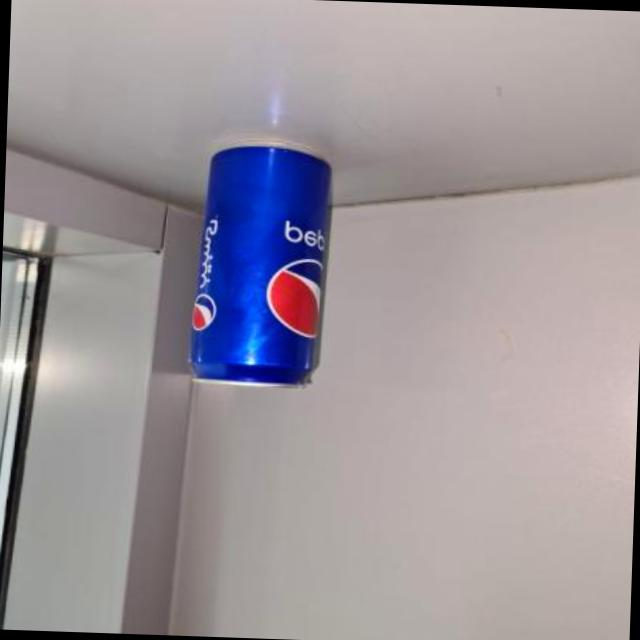metal: (189, 149, 328, 388)
